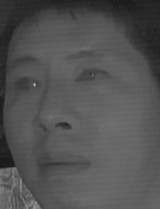eye: (73, 67, 114, 87), (12, 75, 43, 93)
mouth: (35, 146, 93, 178)
